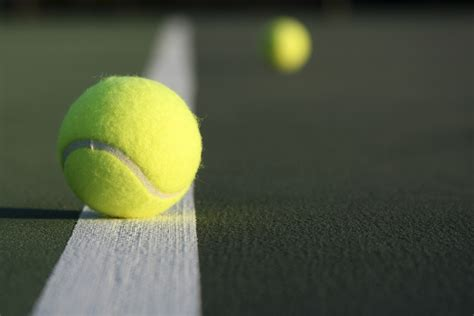tennis_ball: (56, 75, 203, 219), (254, 15, 313, 75)
